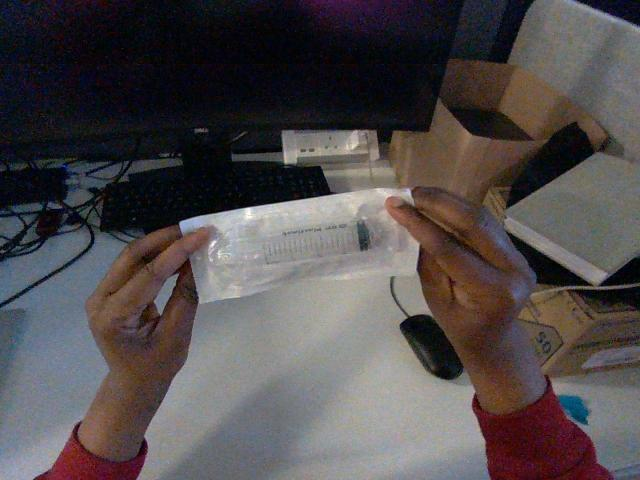syringe: (180, 189, 418, 302)
